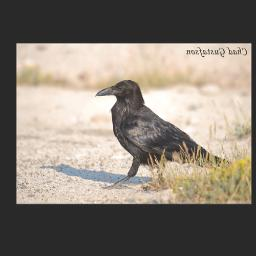Crow: (95, 79, 237, 191)
